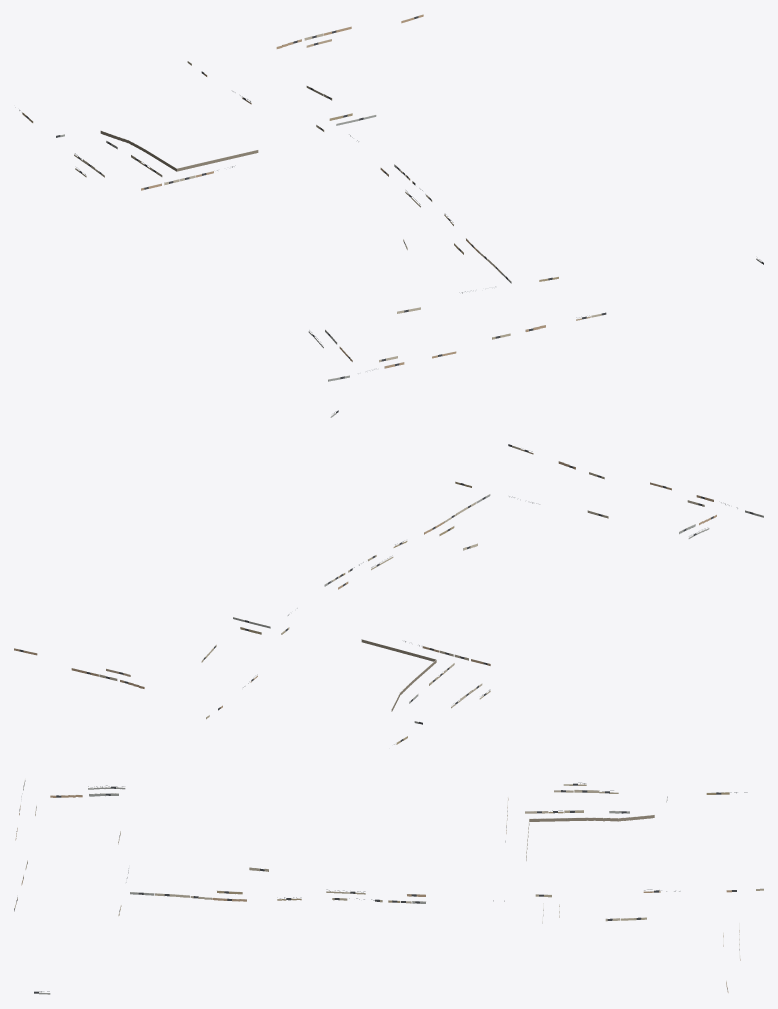
3 renders of one model, top to bottom at view 1: azimuth 30°, elevation 25°; view 2: azimuth 150°, elevation 25°; view 3: azimuth 270°, elevation 25°, orthographic. The views are drawn at different scales.
Parts seen in each view (by area): view 1: nd_st_m13_m7_lod0; view 2: nd_st_m13_m7_lod0; view 3: nd_st_m13_m7_lod0.
Part boxes in pixels (left/top/right/bottom): nd_st_m13_m7_lod0: left=15, top=14, right=763, bottom=381; nd_st_m13_m7_lod0: left=14, top=410, right=763, bottom=744; nd_st_m13_m7_lod0: left=14, top=778, right=763, bottom=994.
Size of what is drawn, in the model's own units: 349 by 8.67 by 504.
